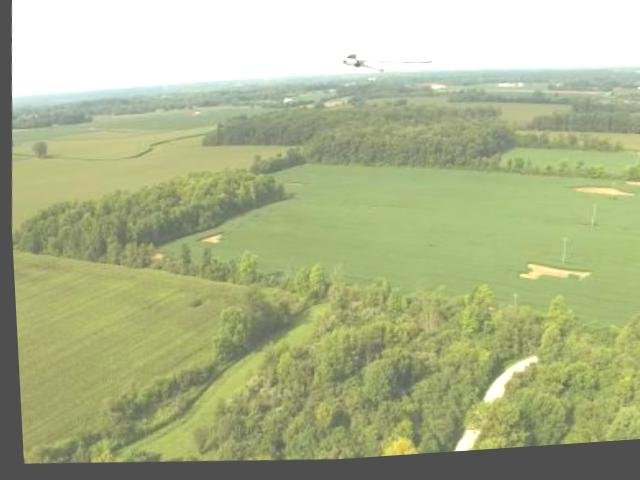uav: (291, 32, 438, 99)
